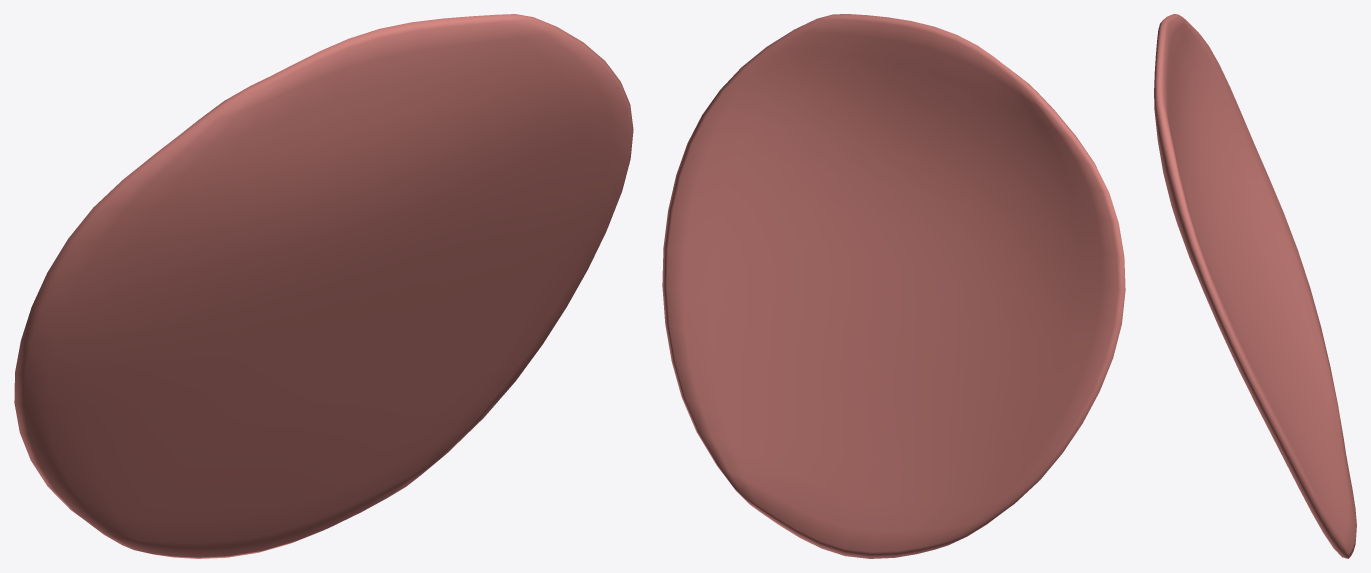
3 renders of one model, left to right at view 1: azimuth 30°, elevation 25°; view 2: azimuth 150°, elevation 25°; view 3: azimuth 270°, elevation 25°, orthographic. The views are drawn at different scales.
Parts seen in each view (by area): view 1: ZA_9c30a057408b62c9; view 2: ZA_9c30a057408b62c9; view 3: ZA_9c30a057408b62c9.
Part boxes in pixels (bbox=[...]): ZA_9c30a057408b62c9: bbox=[14, 14, 633, 558]; ZA_9c30a057408b62c9: bbox=[662, 14, 1125, 558]; ZA_9c30a057408b62c9: bbox=[1154, 14, 1356, 558].
Size of the model in its own units: 0.021 by 0.0204 by 0.00752.
